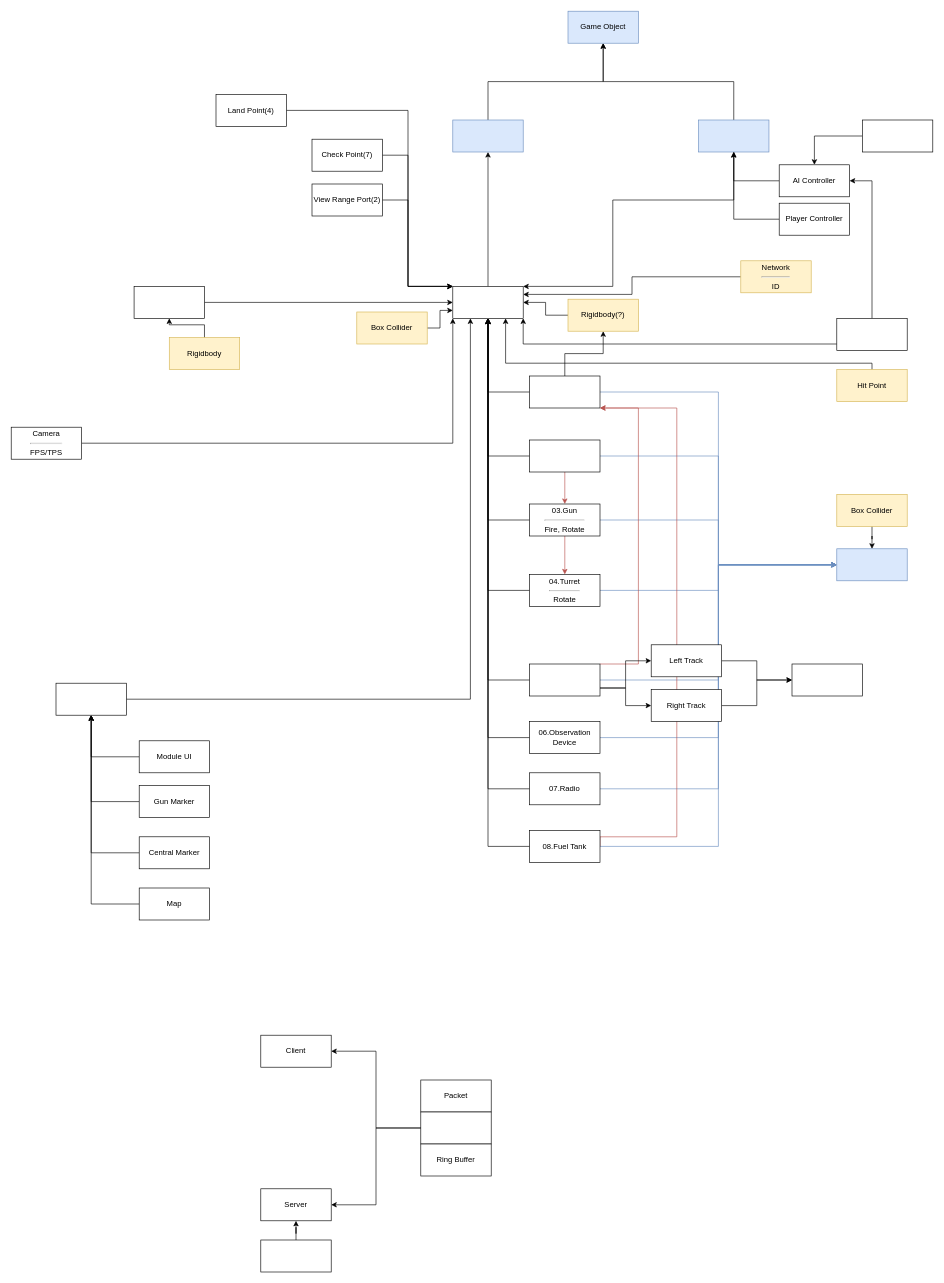
This 944x1283 diagram has some shape labels left out. The shapes that lost their labels are listed below. From the top down, each one's centre as x and y in pixels, then its label:
At point (487, 135): "Land Object".
At point (733, 135): "Controller".
At point (897, 135): "Behavior Tree".
At point (168, 302): "Shell Raycast_Delta_Pos".
At point (487, 302): "Tank".
At point (871, 334): "Team".
At point (564, 391): "01.Engine Move".
At point (564, 455): "02.Ammo Rack".
At point (871, 564): "Module".
At point (90, 699): "HUD".
At point (564, 679): "05.Tracks UV Offset".
At point (826, 679): "Track".
At point (455, 1127): "Packet Handler".
At point (295, 1255): "Session".
